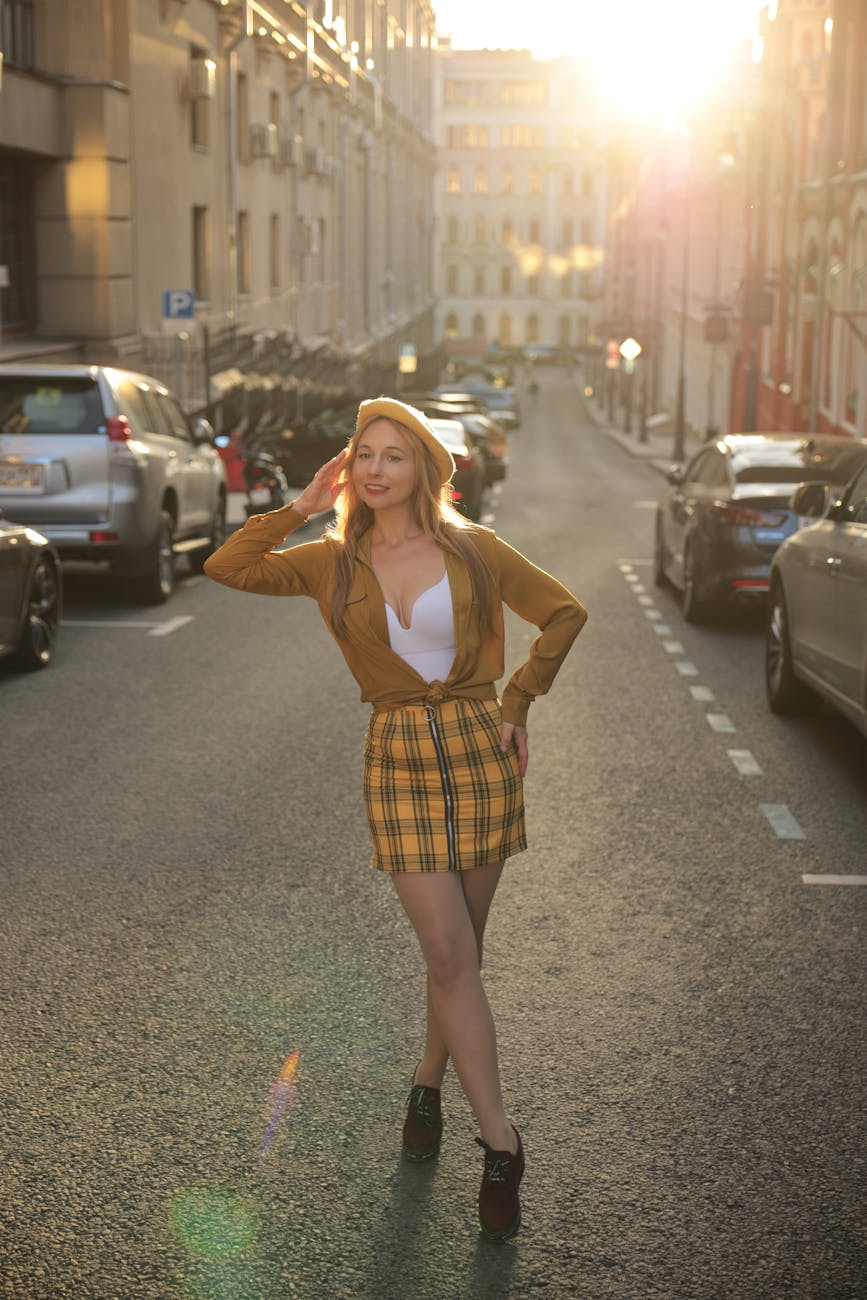short_medium_skirt: (350, 690, 535, 872)
